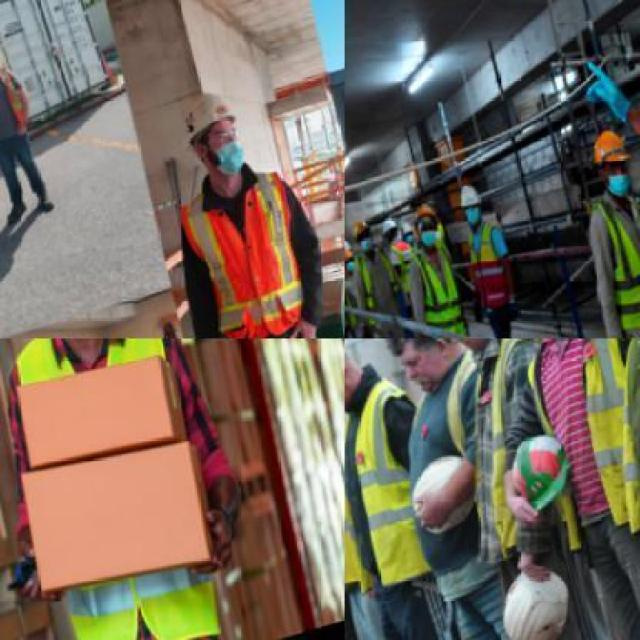Vest: (0, 338, 245, 638), (443, 338, 602, 572), (168, 163, 329, 337), (516, 339, 638, 566), (344, 371, 454, 603), (591, 189, 638, 337), (414, 241, 478, 337), (464, 223, 524, 325), (349, 238, 414, 329), (344, 422, 368, 592), (0, 66, 40, 148), (391, 237, 423, 295)
